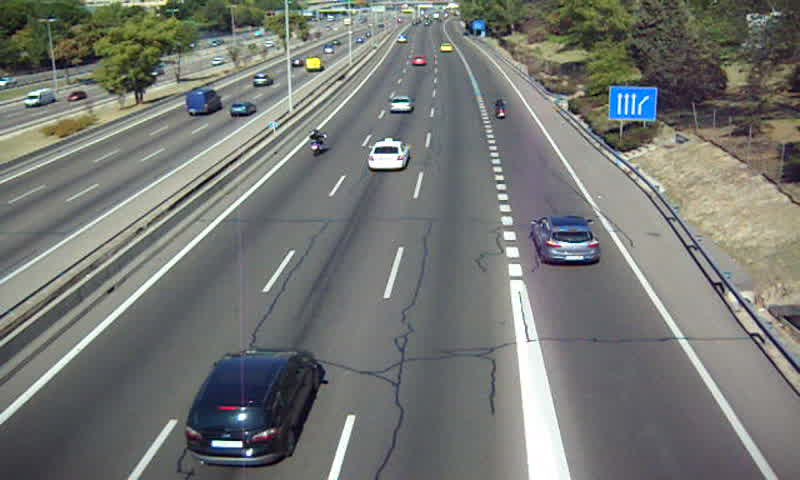car: (183, 349, 318, 466), (532, 215, 602, 263), (364, 140, 408, 173), (388, 95, 412, 113), (411, 54, 429, 68)
motorcycle: (307, 128, 326, 159), (494, 98, 508, 121)
